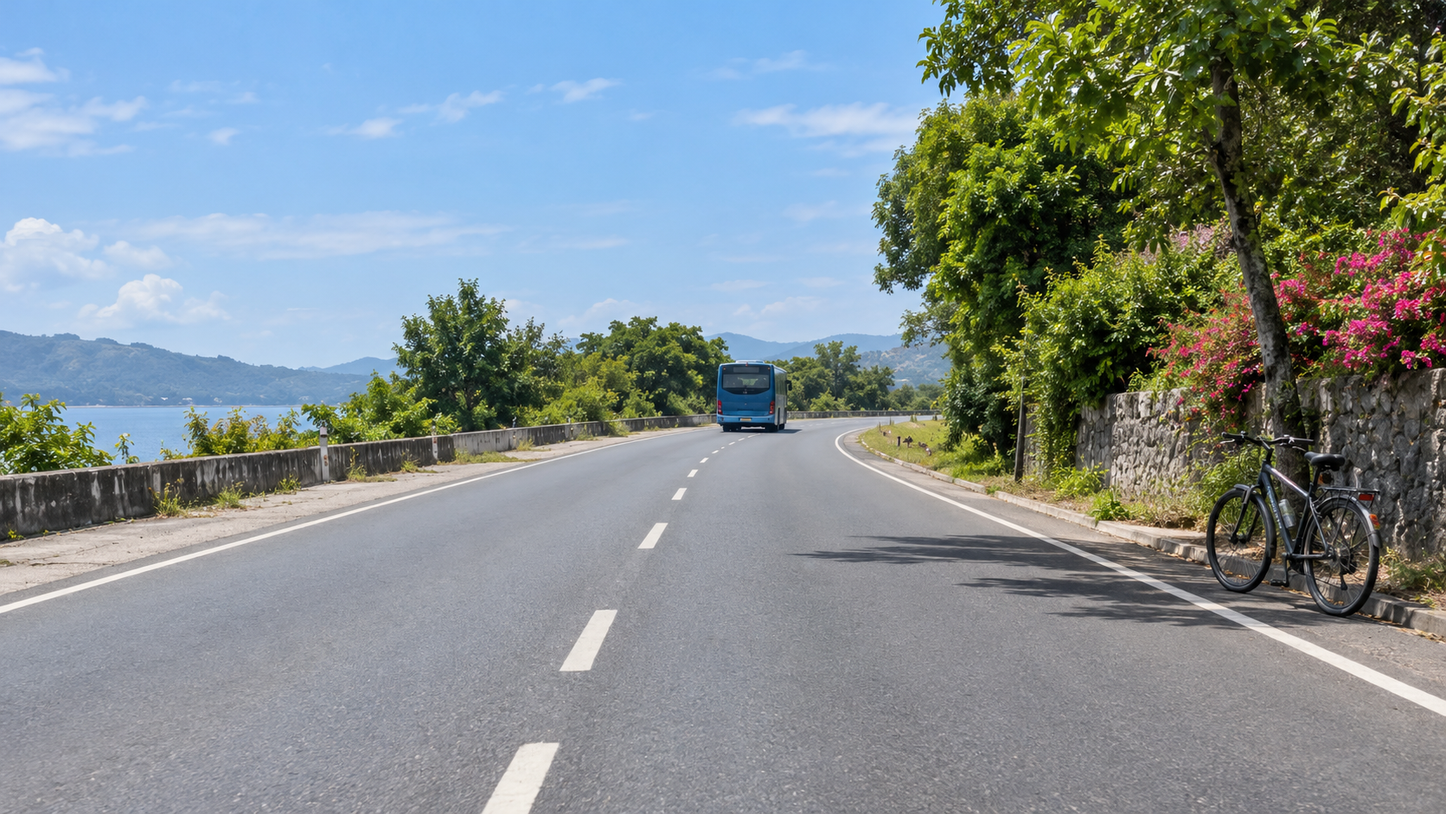bicycle: (1208, 433, 1380, 618)
bus: (718, 363, 789, 433)
